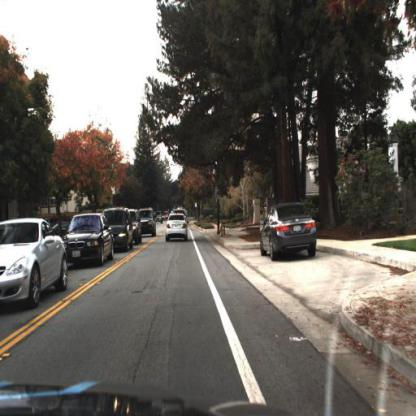car: (1, 219, 70, 310), (260, 200, 320, 263), (66, 213, 115, 273), (101, 207, 134, 253), (107, 209, 131, 251), (165, 211, 190, 243), (135, 207, 156, 235), (141, 208, 158, 237), (132, 211, 141, 245)
